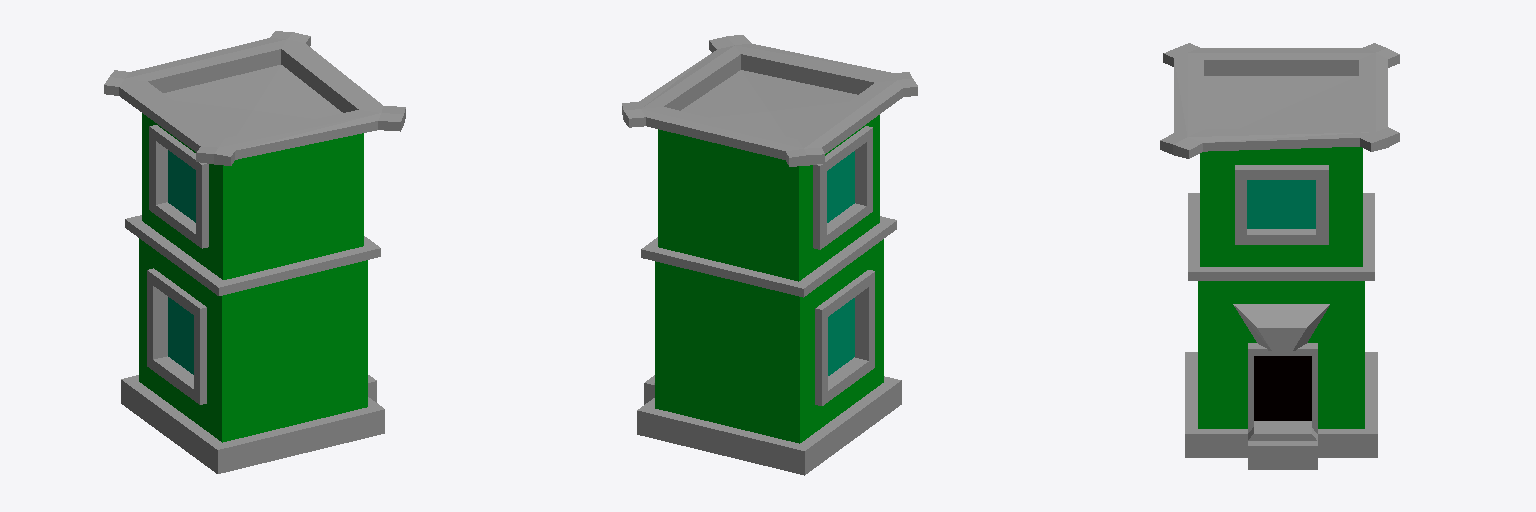
File: house2.obj
The picture shows the model from 3 angles: view 1: azimuth 30°, elevation 25°; view 2: azimuth 150°, elevation 25°; view 3: azimuth 270°, elevation 25°; orthographic projection.
Visible parts, largest first — view 1: Cube; view 2: Cube; view 3: Cube.
Boxes of the visible parts, x1,y1,x2,y2 form: Cube: [104, 31, 405, 473]; Cube: [622, 35, 917, 475]; Cube: [1160, 43, 1399, 469].
Bounding box in the file's own units: 2.89 × 4.28 × 2.86.